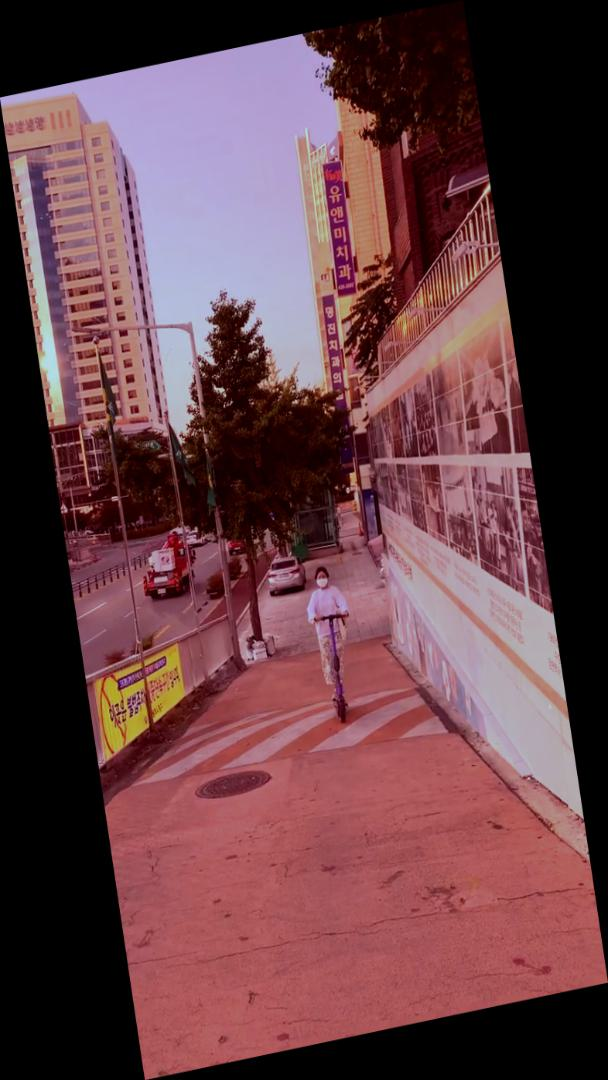nonhelmet: (297, 557, 368, 731)
